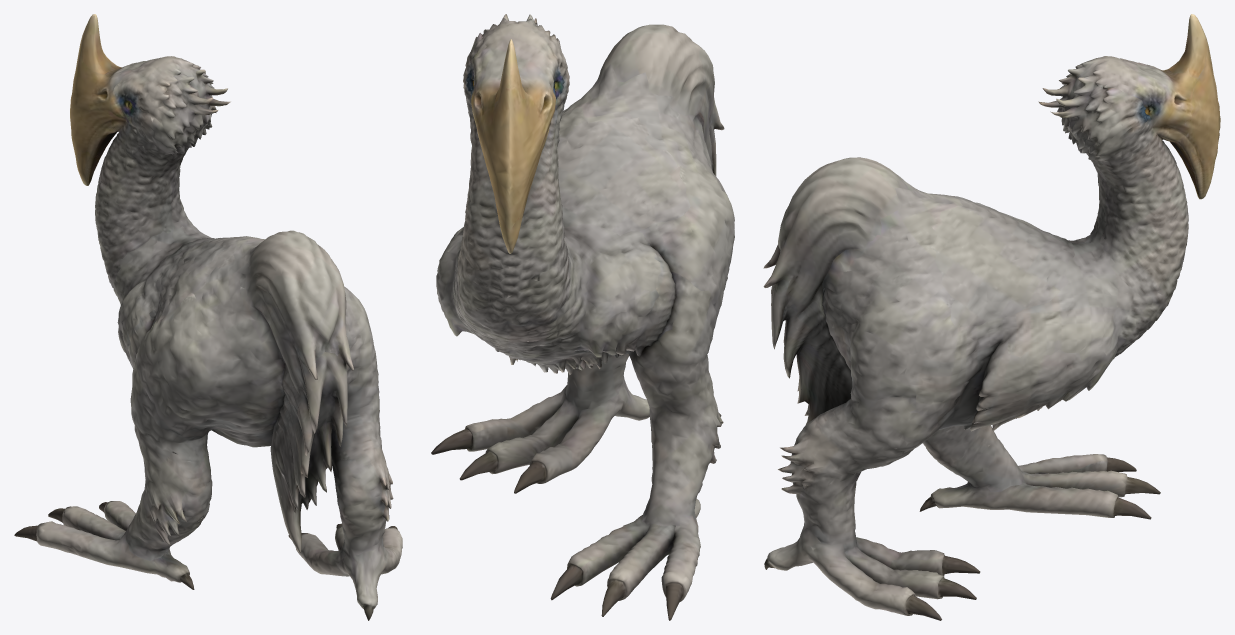
The model's file is MZ4250 - Axebeak, Cold Weather.glb.
3 renders of one model, left to right at view 1: azimuth 30°, elevation 25°; view 2: azimuth 150°, elevation 25°; view 3: azimuth 270°, elevation 25°, orthographic. The views are drawn at different scales.
Visible parts, largest first — view 1: ORGANIC BASE SPHERE.001; view 2: ORGANIC BASE SPHERE.001; view 3: ORGANIC BASE SPHERE.001.
Part boxes in pixels (left/top/right/bottom): ORGANIC BASE SPHERE.001: left=14, top=14, right=402, bottom=620; ORGANIC BASE SPHERE.001: left=431, top=14, right=734, bottom=620; ORGANIC BASE SPHERE.001: left=763, top=14, right=1220, bottom=620.
Size of the model in its own units: 85.47 by 136 by 109.
1 material, 1 textured.
